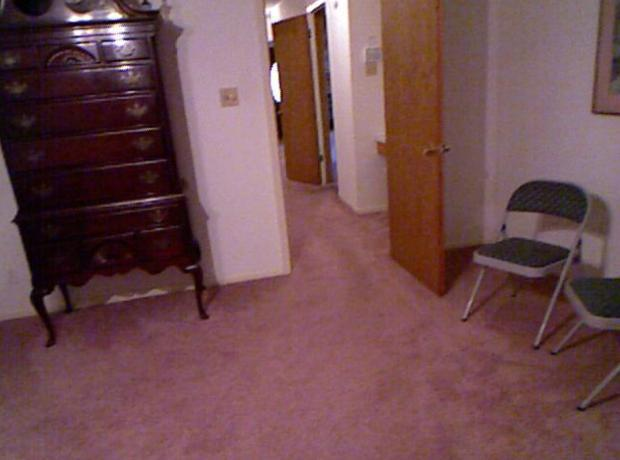Armario: (1, 1, 209, 332)
